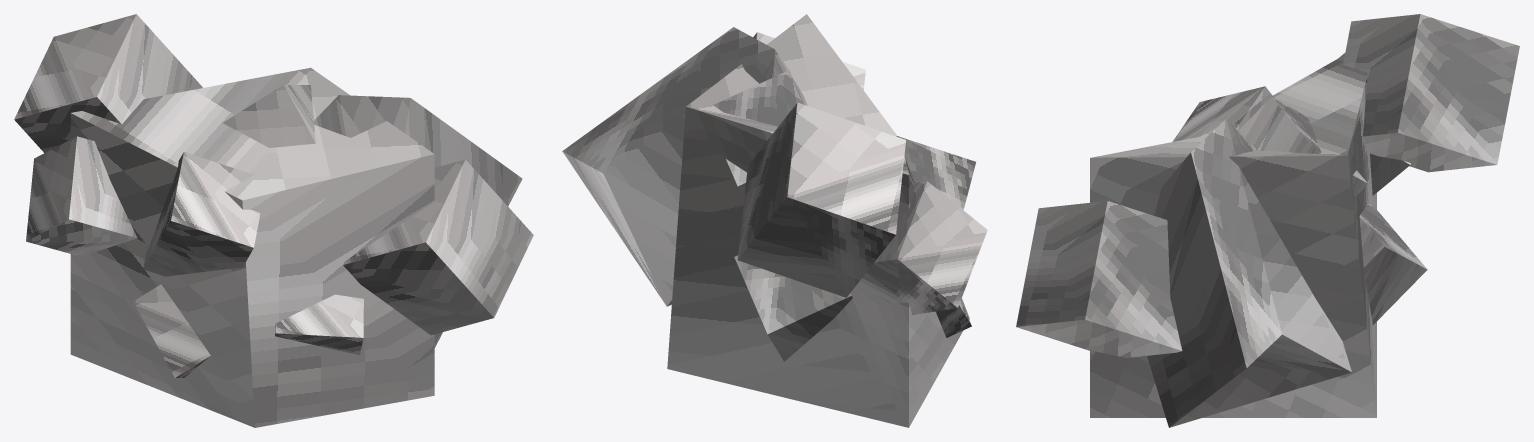
The model's file is rocksalt.fbx.
3 views of the same model, side by side, from view 1: azimuth 30°, elevation 25°; view 2: azimuth 150°, elevation 25°; view 3: azimuth 270°, elevation 25° (orthographic). The views are drawn at different scales.
Visible parts, largest first — view 1: Cube.009; view 2: Cube.009; view 3: Cube.009.
Part boxes in pixels (x1=…): Cube.009: x1=14, y1=14, x2=533, y2=427; Cube.009: x1=562, y1=14, x2=987, y2=427; Cube.009: x1=1016, y1=14, x2=1519, y2=427.
Size of the model in its own units: 1.48 by 0.9893 by 1.37.
